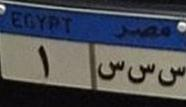1: (38, 43, 52, 80)
seen: (157, 60, 186, 91), (97, 54, 126, 85), (126, 59, 156, 86)
